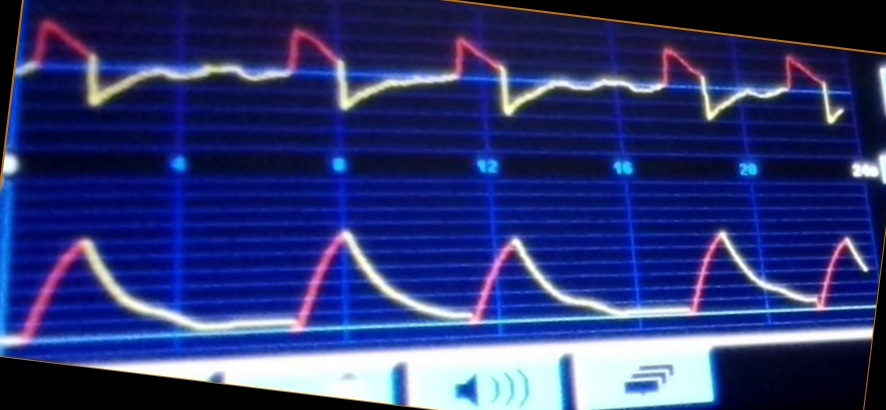Ineffective_effort Flow: (23, 10, 846, 134)
Ineffective_effort Volume: (11, 221, 867, 336)
